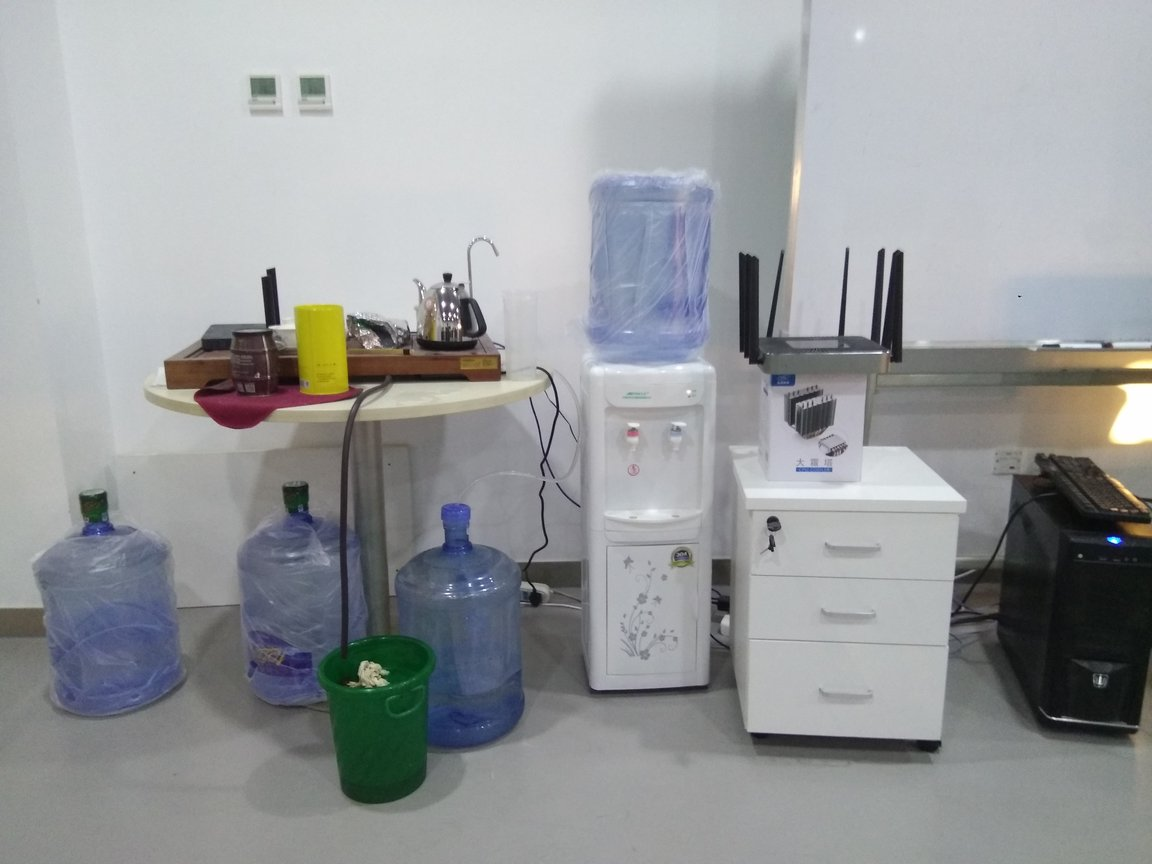computer: (1008, 459, 1152, 743)
drawer chest: (726, 445, 955, 761)
scuttlebutt: (229, 479, 371, 721), (399, 502, 532, 754), (38, 482, 180, 714), (586, 165, 717, 369)
water dispenser: (577, 344, 712, 706)
